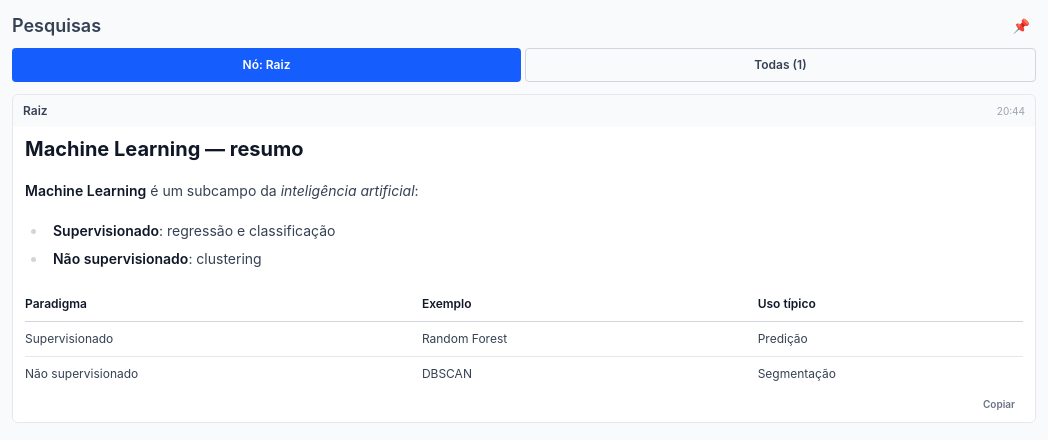
Test: ResearchPanel › botão copiar grava o texto bruto no clipboard
Click the button "Copiar". click: coordinates (999, 404)
box: [975, 395, 1023, 414]
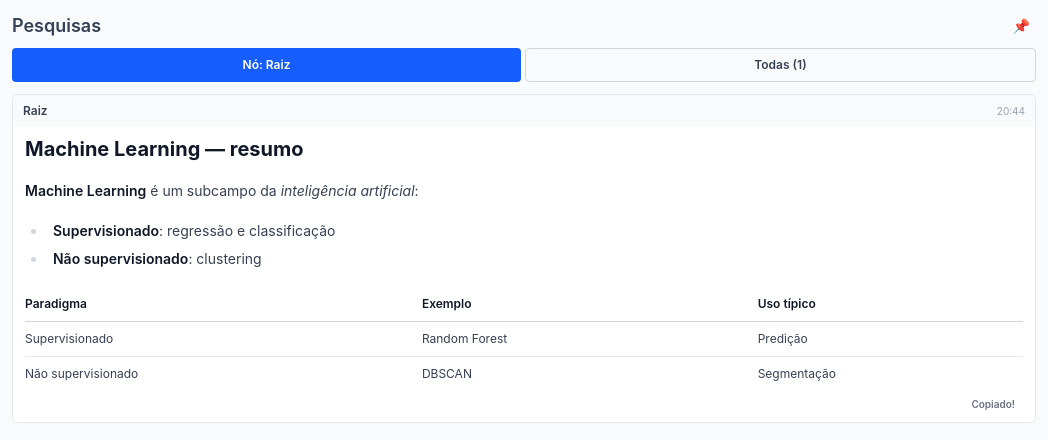
Expected: the button "Copiado!" is shown, [963, 395, 1023, 414]
